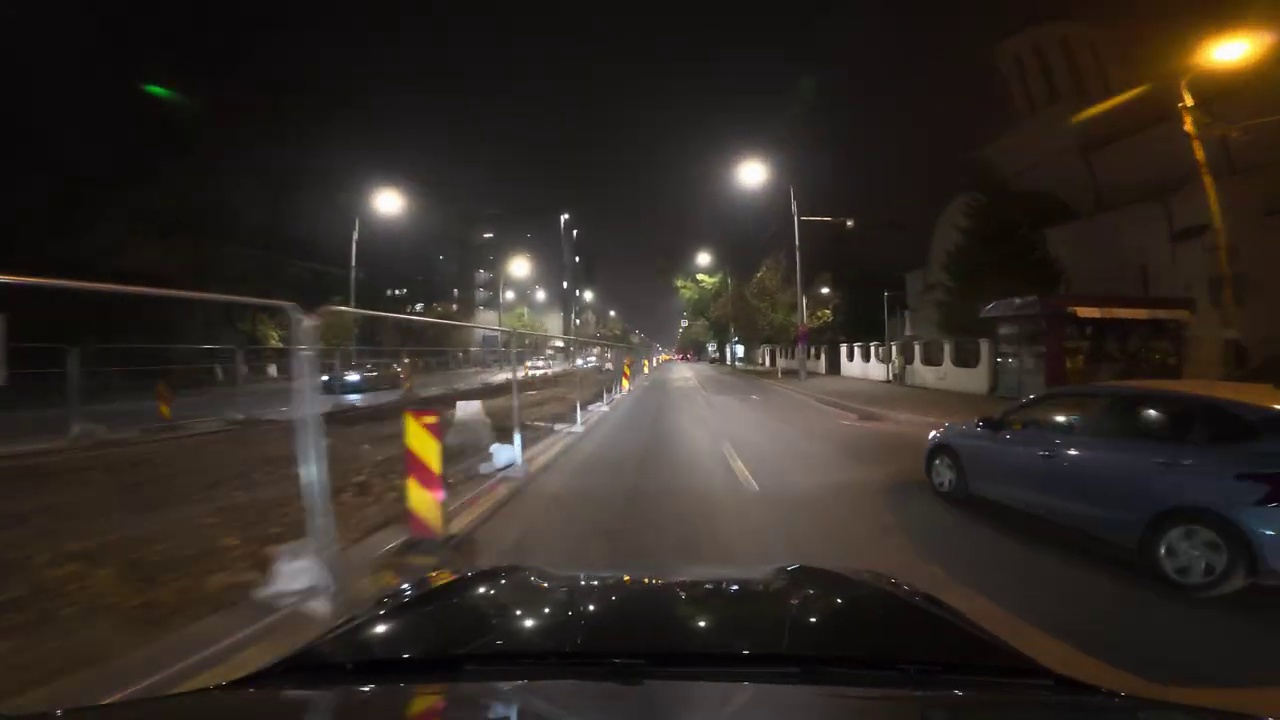acesa: (1203, 29, 1262, 74), (369, 187, 407, 219), (735, 157, 770, 189), (503, 253, 535, 281), (692, 248, 717, 272)
